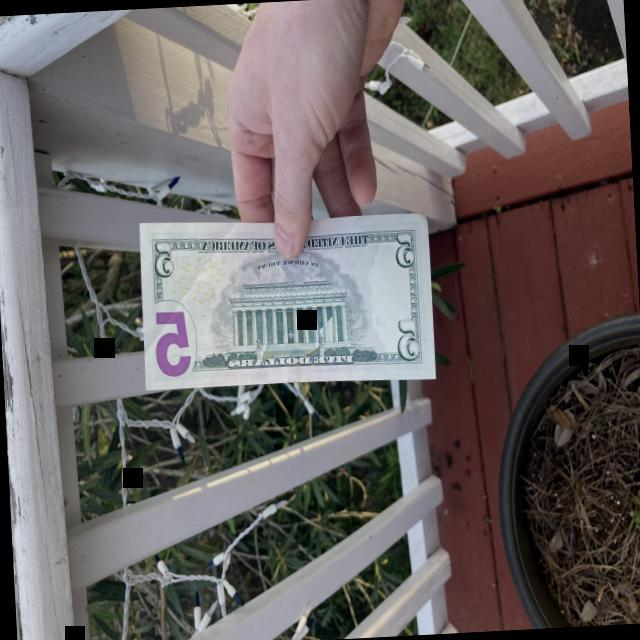five: (138, 212, 434, 393)
